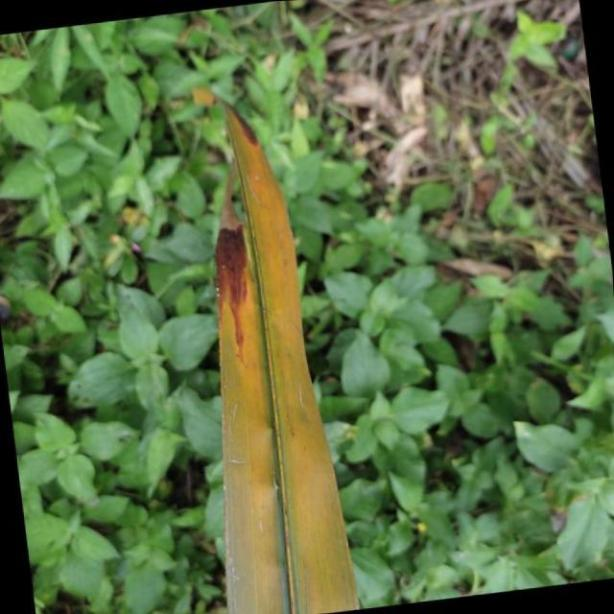Megnesium: (188, 70, 358, 614)
